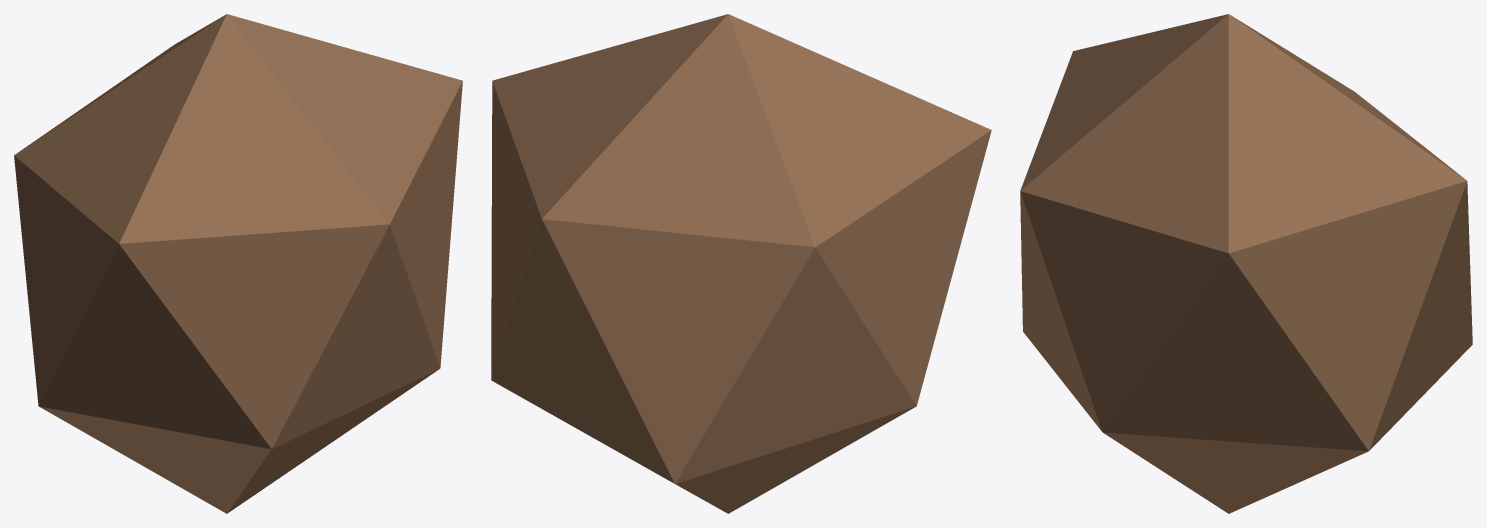
Rendered from rock_chunk.glb.
3 views of the same model, side by side, from view 1: azimuth 30°, elevation 25°; view 2: azimuth 150°, elevation 25°; view 3: azimuth 270°, elevation 25° (orthographic).
Parts seen in each view (by area): view 1: rock_chunk; view 2: rock_chunk; view 3: rock_chunk.
Boxes of the visible parts, x1,y1,x2,y2 form: rock_chunk: (14, 14, 462, 513); rock_chunk: (491, 14, 991, 513); rock_chunk: (1020, 14, 1472, 513).
Bounding box in the file's own units: 0.1162 × 0.1308 × 0.1073.
